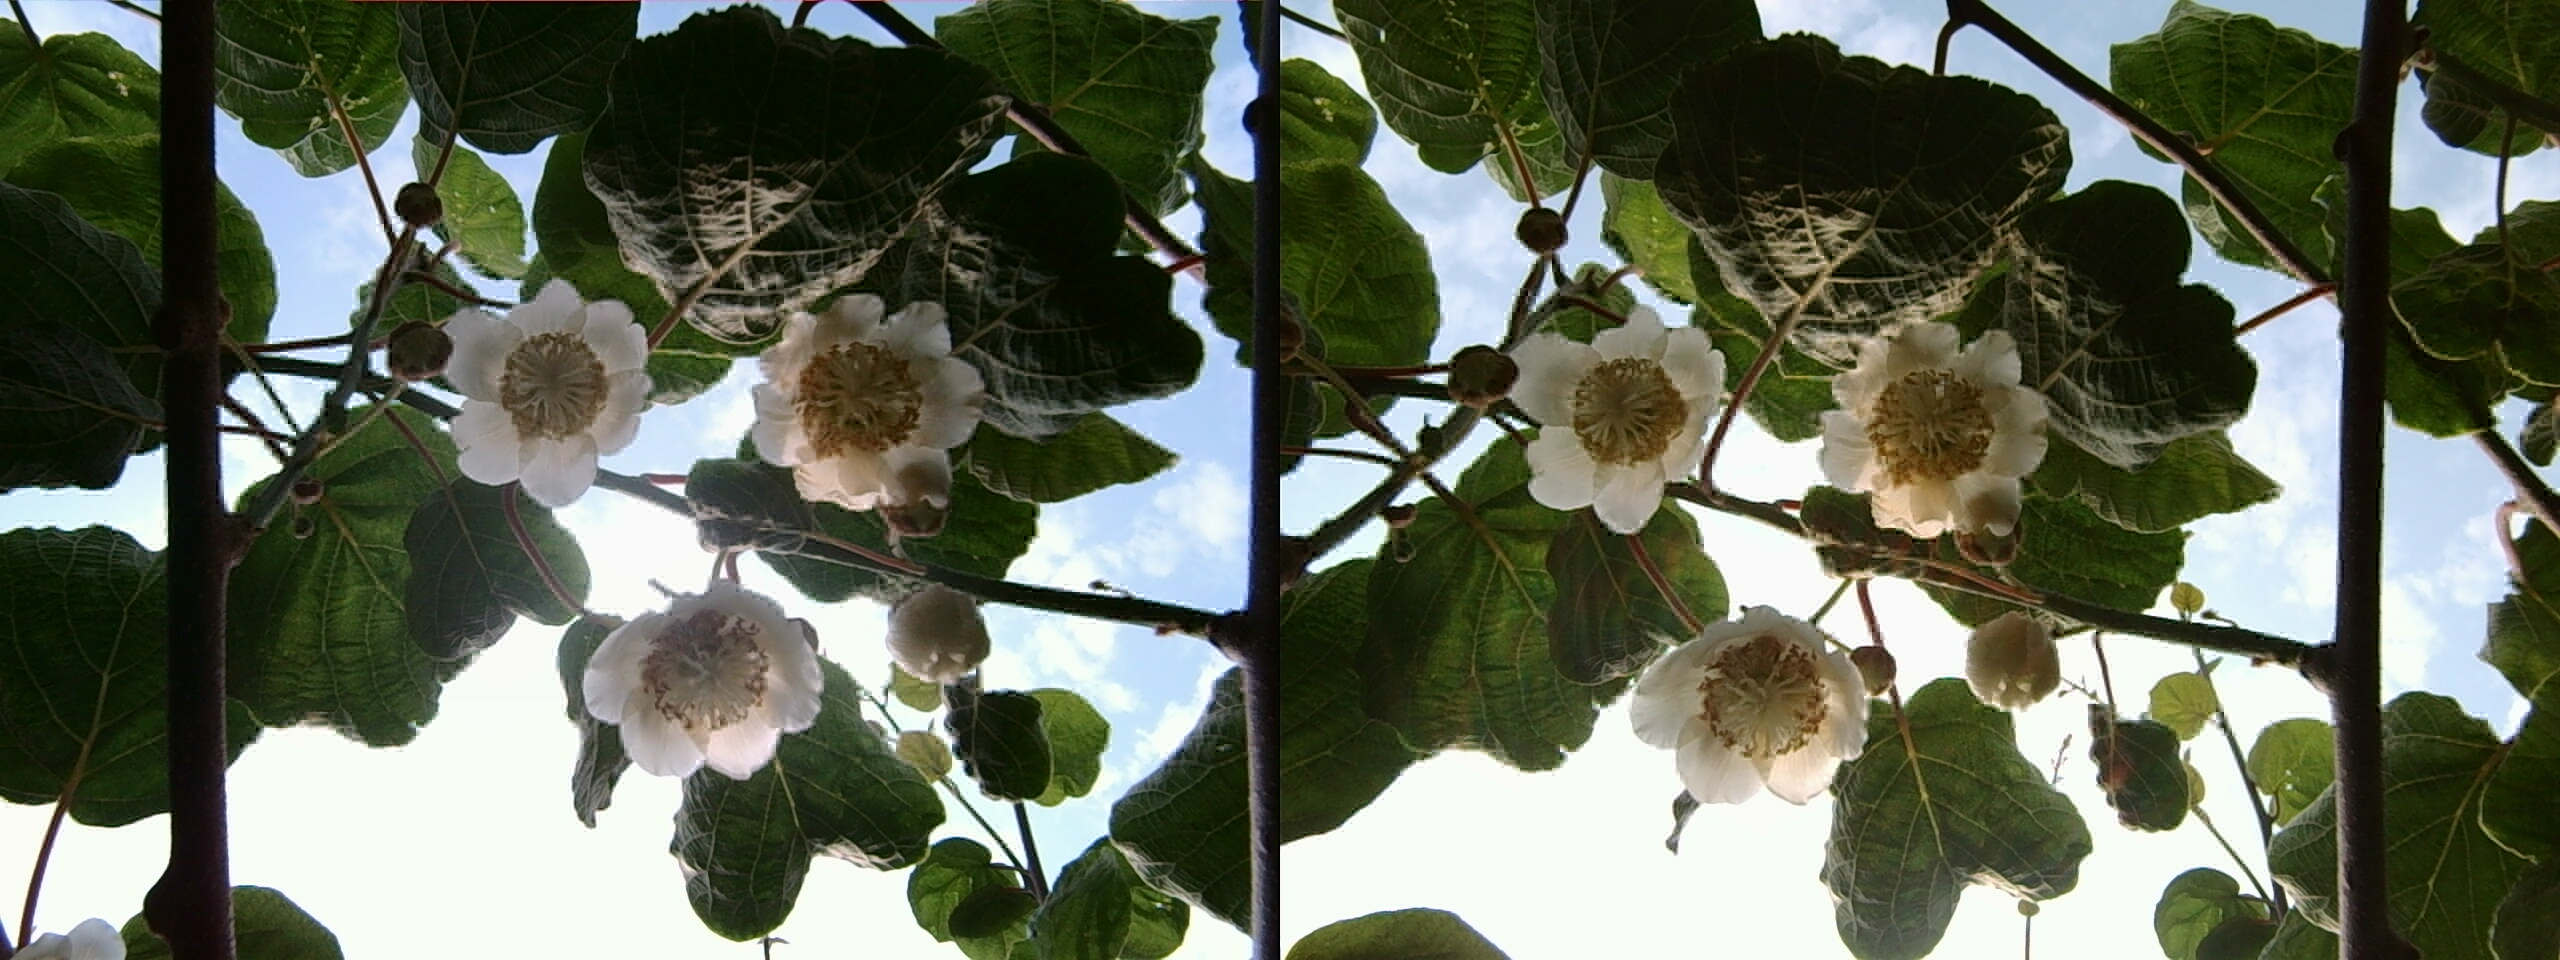flower: (736, 278, 984, 519), (1621, 593, 1881, 815), (1816, 305, 2047, 545), (421, 268, 661, 496), (571, 571, 821, 784), (1496, 309, 1721, 527)
